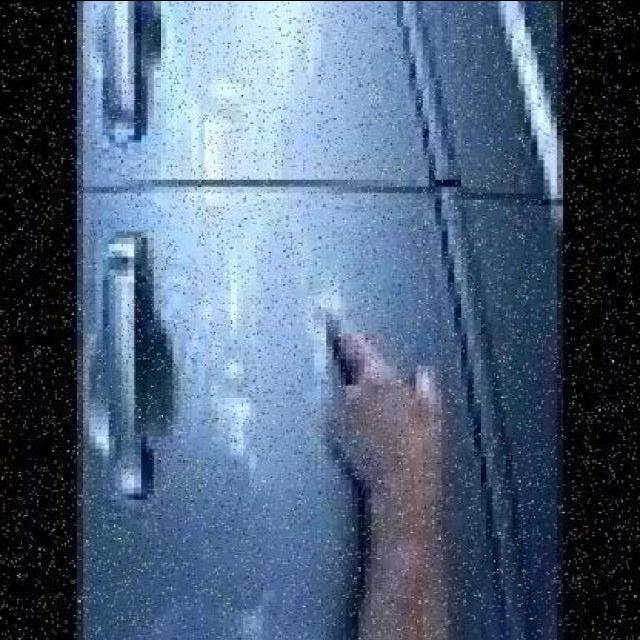doorouter-dent: (83, 179, 576, 640), (71, 7, 564, 186)
